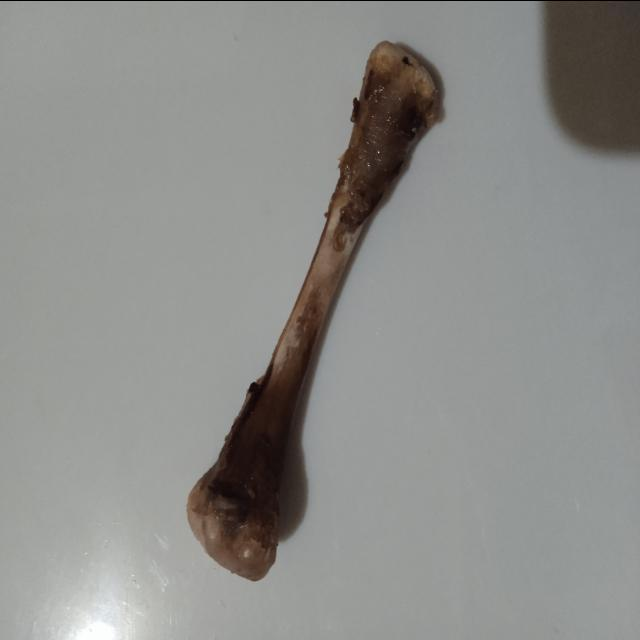bone: (180, 26, 456, 592)
